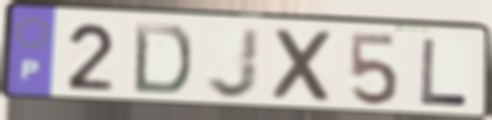2: (65, 20, 118, 92)
5: (347, 29, 402, 108)
D: (130, 21, 195, 98)
J: (204, 25, 263, 101)
L: (418, 36, 471, 108)
X: (271, 25, 339, 106)
